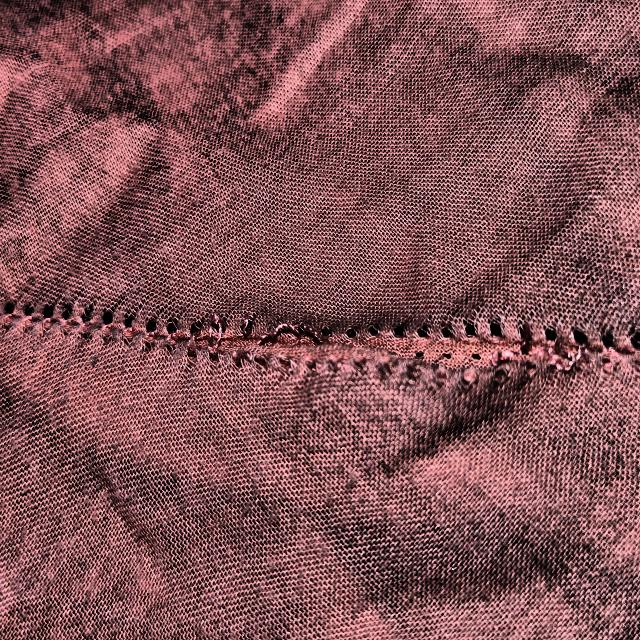seam: (212, 276, 640, 428)
